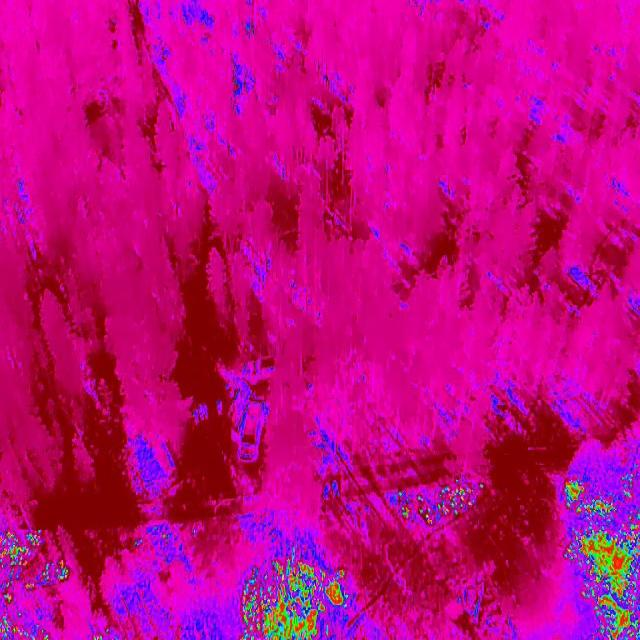fire: (564, 471, 640, 640), (238, 557, 352, 640), (0, 522, 71, 640), (392, 485, 489, 533)
